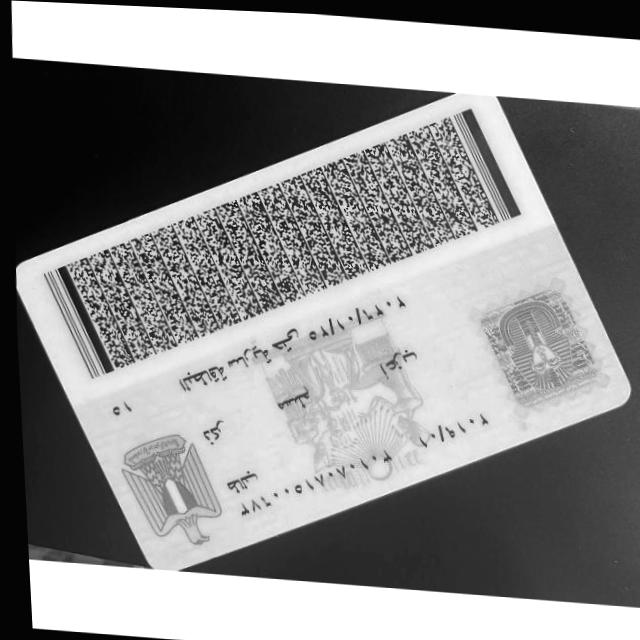id_card: (17, 95, 630, 569)
